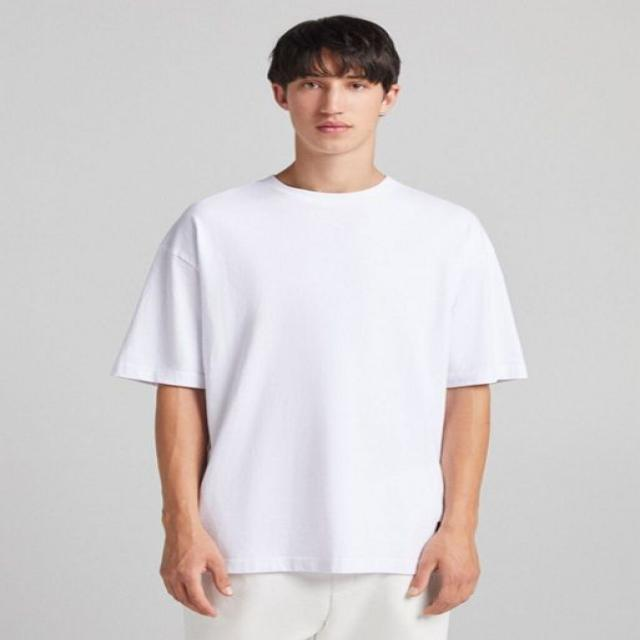tshirt: (112, 171, 528, 576)
